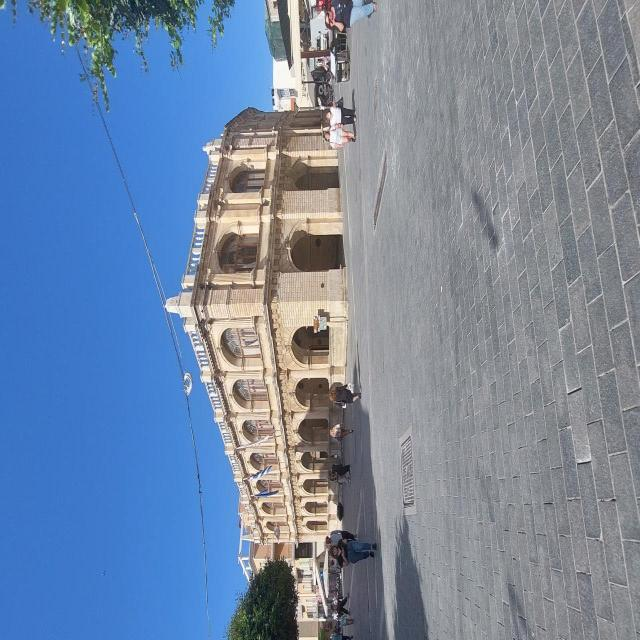Loggia: (48, 363, 246, 640)
